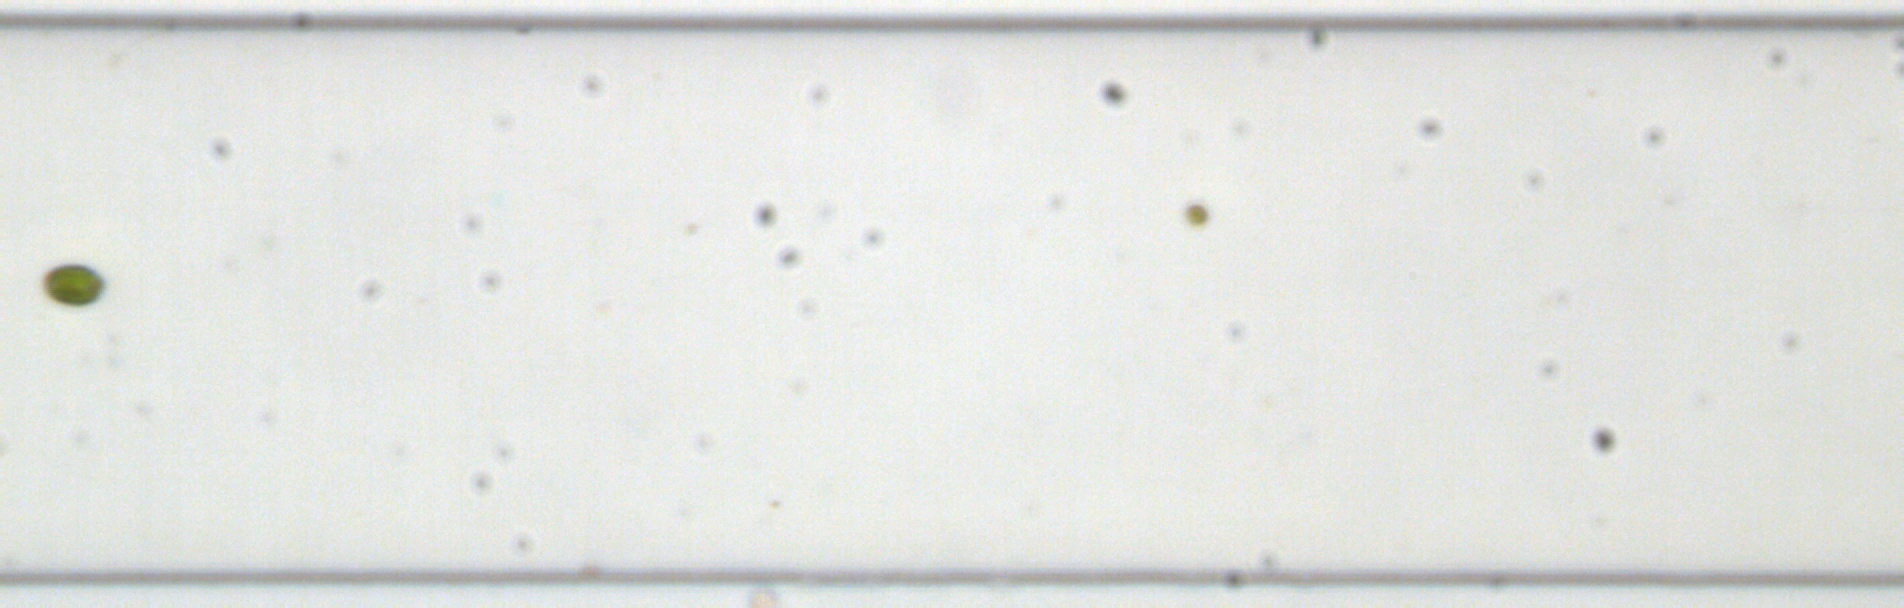Chlorella: (1181, 201, 1209, 226)
Platymonas: (38, 258, 110, 309)
